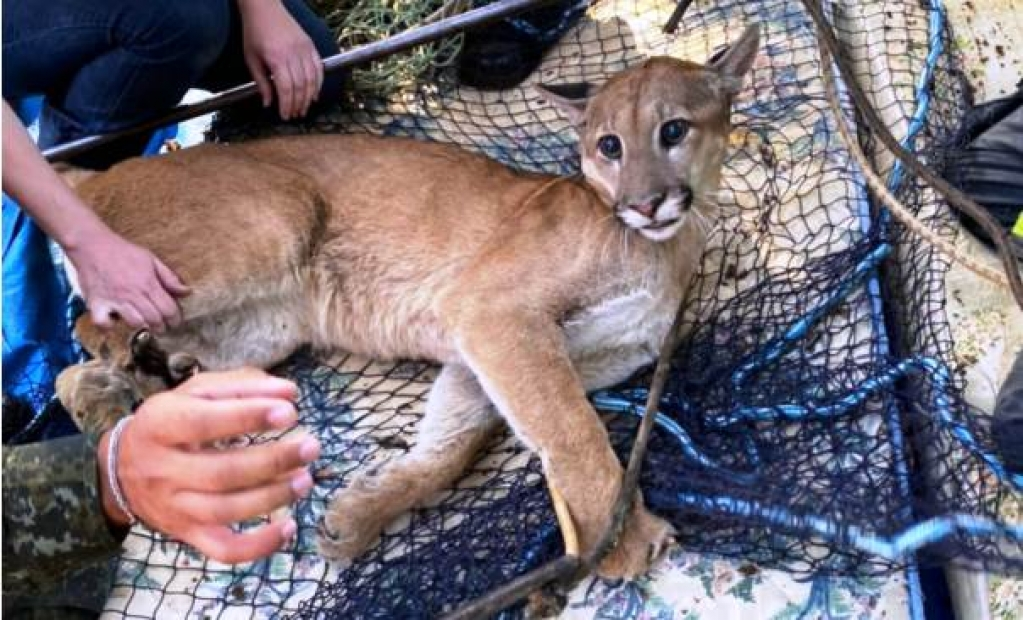OncaParda: (80, 19, 775, 576)
